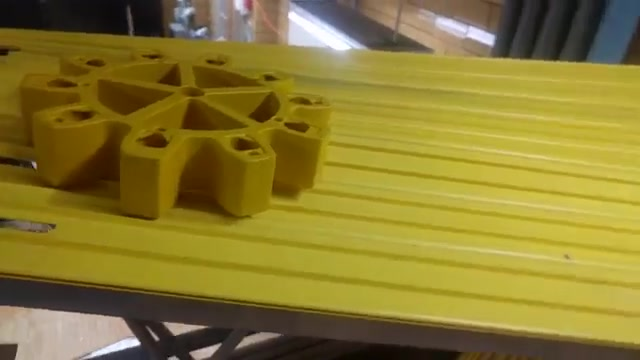gear: (21, 38, 314, 236)
